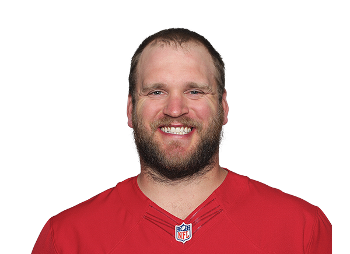person: (29, 24, 334, 254)
